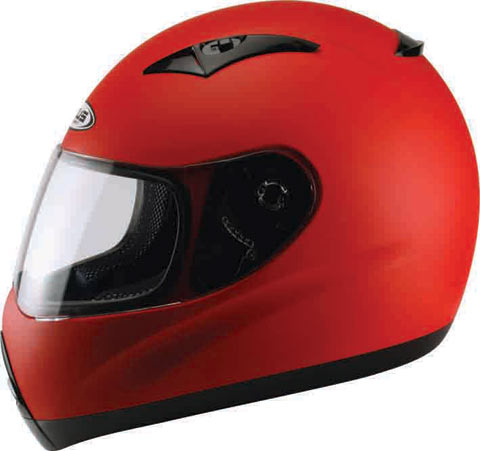helmet: (28, 8, 463, 388)
